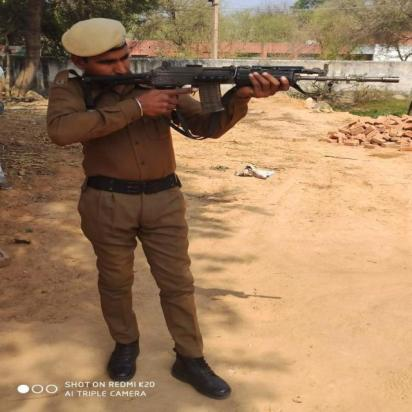Gun: (78, 58, 401, 116)
